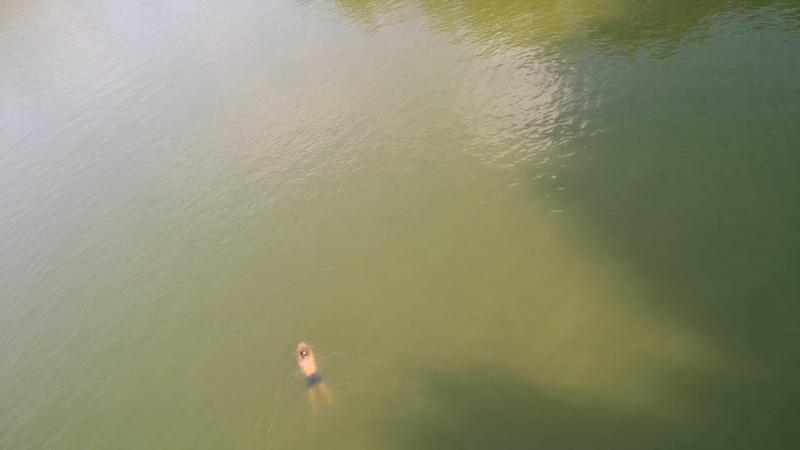swimmers: (293, 339, 335, 413)
